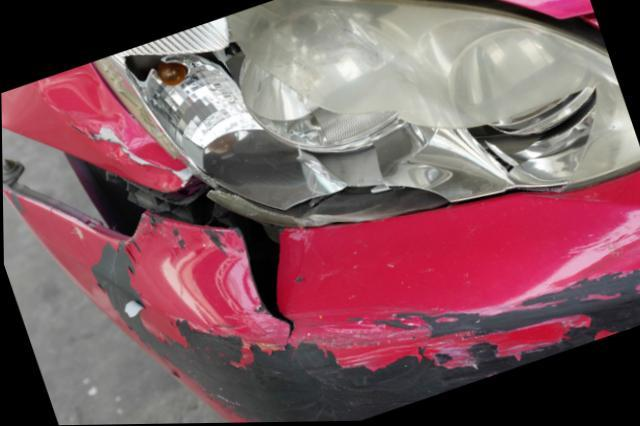crack: (239, 231, 298, 342)
dent: (33, 62, 187, 173)
lamp broken: (93, 0, 640, 223)
scratch: (93, 172, 640, 423)
